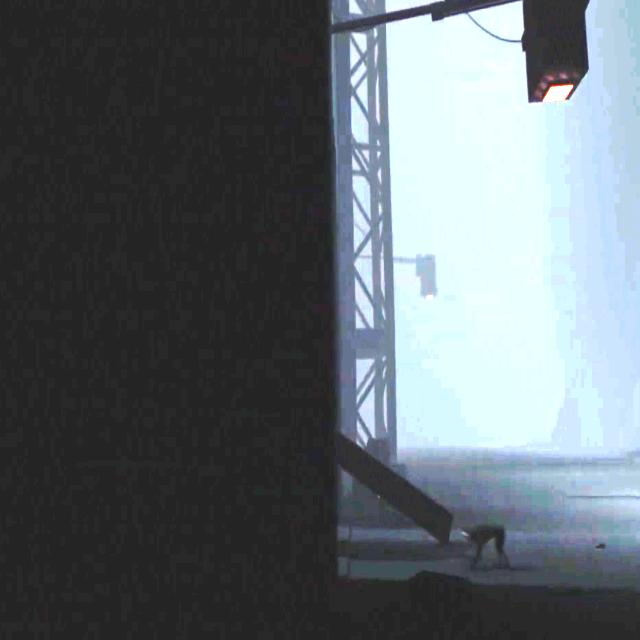dog: (464, 521, 514, 572)
interactible: (524, 0, 588, 106), (418, 253, 440, 302)
structure: (334, 0, 394, 447)
